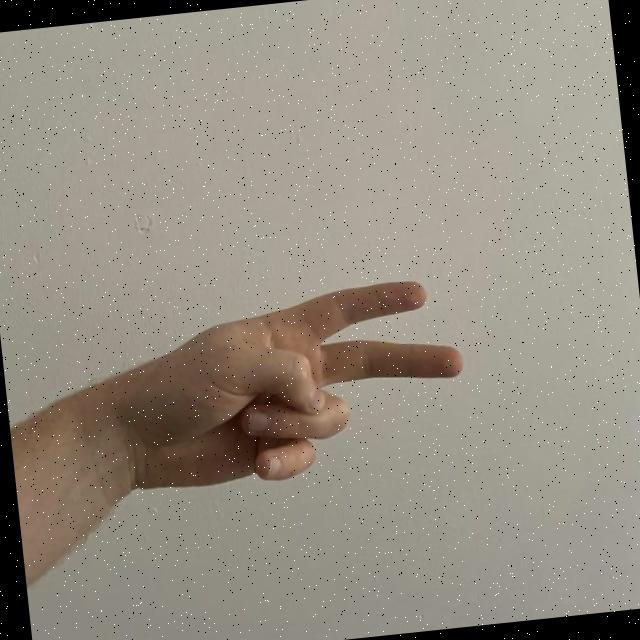scissors: (91, 270, 484, 510)
